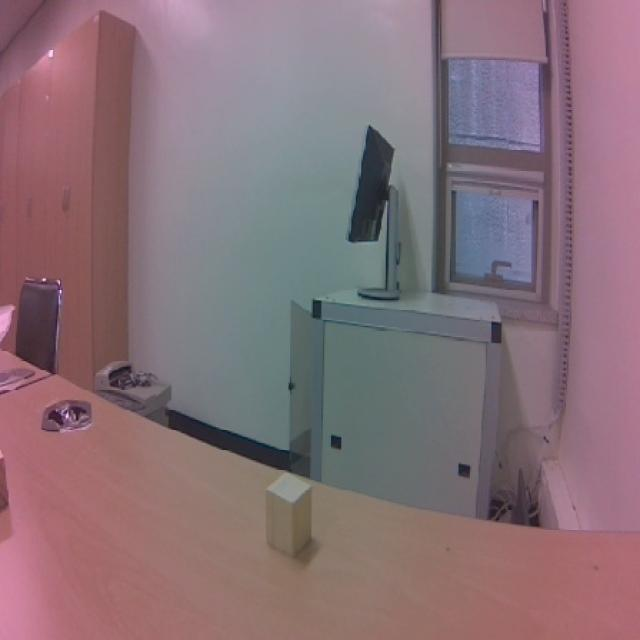obstacle: (255, 460, 321, 562)
